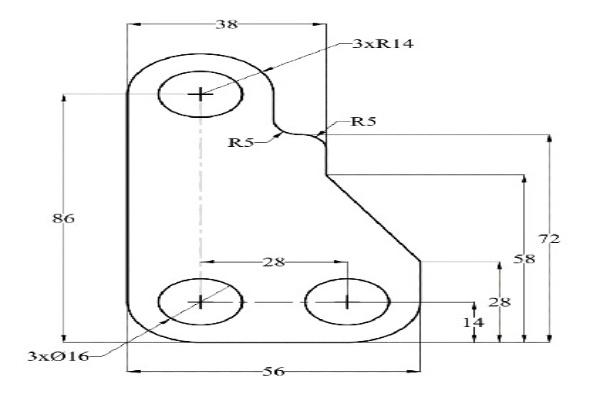dimensions: (347, 34, 416, 55), (28, 347, 89, 364), (45, 205, 83, 229), (349, 110, 383, 132), (226, 133, 261, 154), (261, 249, 287, 275), (484, 291, 515, 312), (214, 11, 241, 34), (507, 251, 541, 269), (536, 229, 565, 249), (261, 362, 291, 381), (458, 313, 489, 331)
